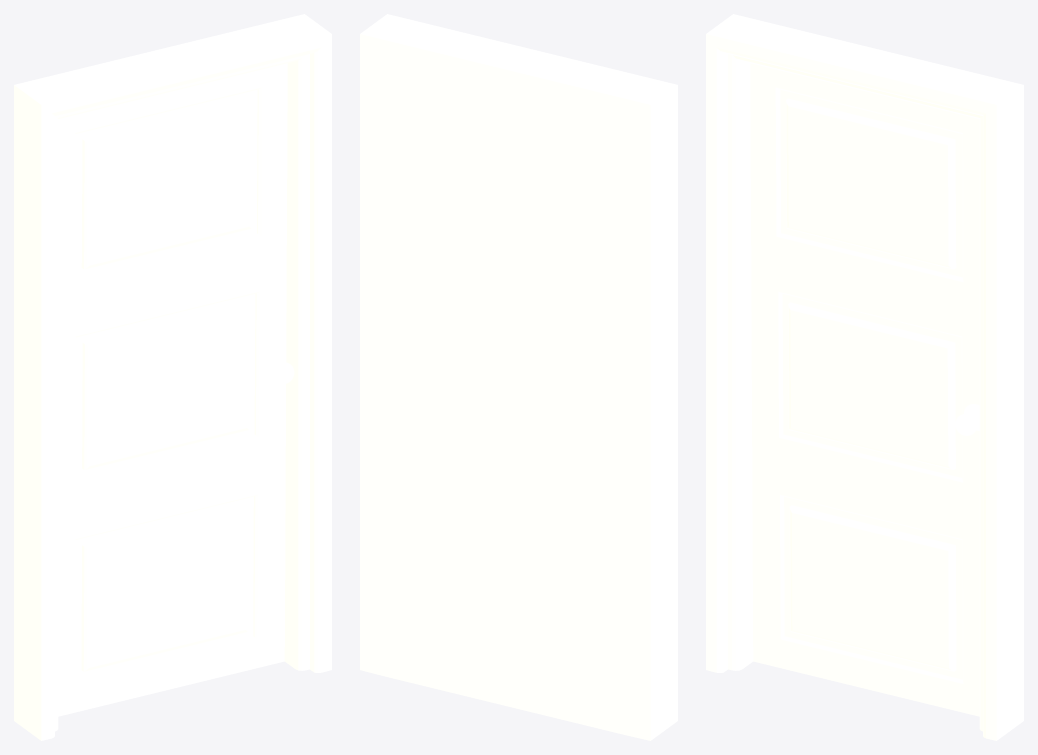
File: Door-Model-1-compressed.glb
The picture shows the model from 3 angles, left to right: view 1: azimuth 30°, elevation 25°; view 2: azimuth 150°, elevation 25°; view 3: azimuth 330°, elevation 25°; orthographic projection.
Visible parts, largest first — view 1: Cube_002, Cube_003; view 2: Cube_002; view 3: Cube_002, Cube_003.
Part boxes in pixels (<box>): Cube_002: <box>14,14,331,740</box>; Cube_003: <box>260,352,294,384</box>; Cube_002: <box>360,14,677,740</box>; Cube_002: <box>706,14,1023,740</box>; Cube_003: <box>955,404,979,435</box>.
Bounding box in the file's own units: 110 × 230 × 17.92.
